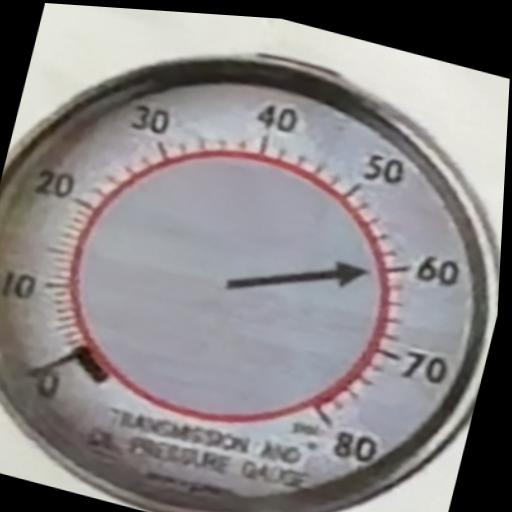needle: (200, 253, 379, 306)
